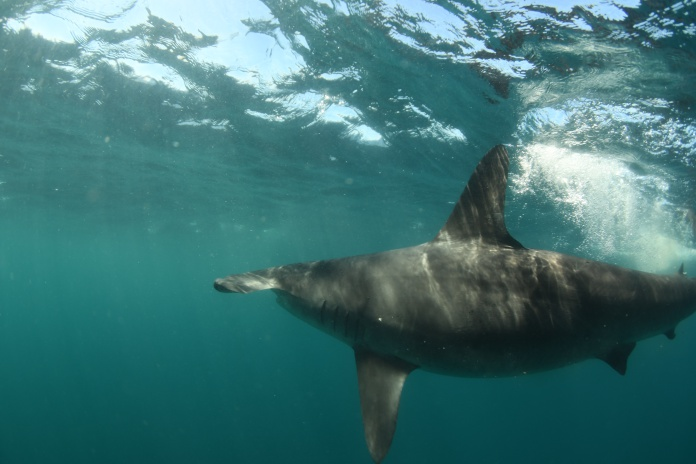Hammer: (207, 148, 694, 464)
